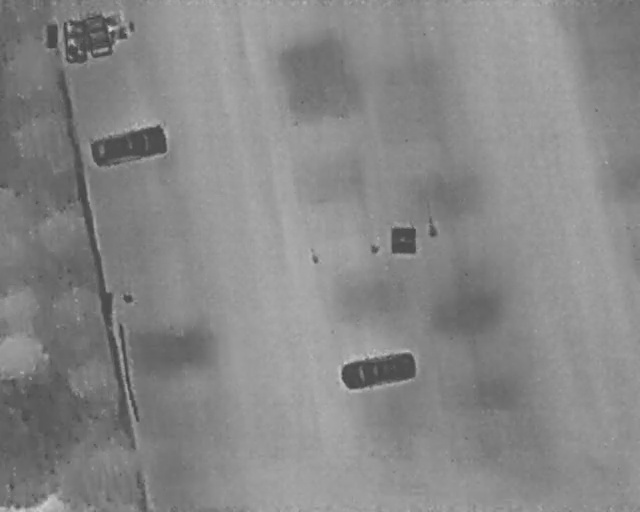Car: (88, 122, 170, 169), (338, 346, 418, 391)
